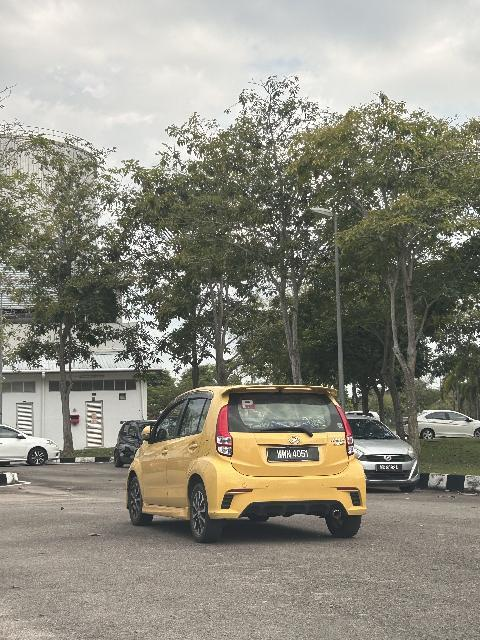License_Plate: (265, 446, 321, 467), (374, 461, 404, 475)
WMN4051: (265, 446, 321, 467)
car: (125, 383, 368, 541), (335, 414, 421, 493)
